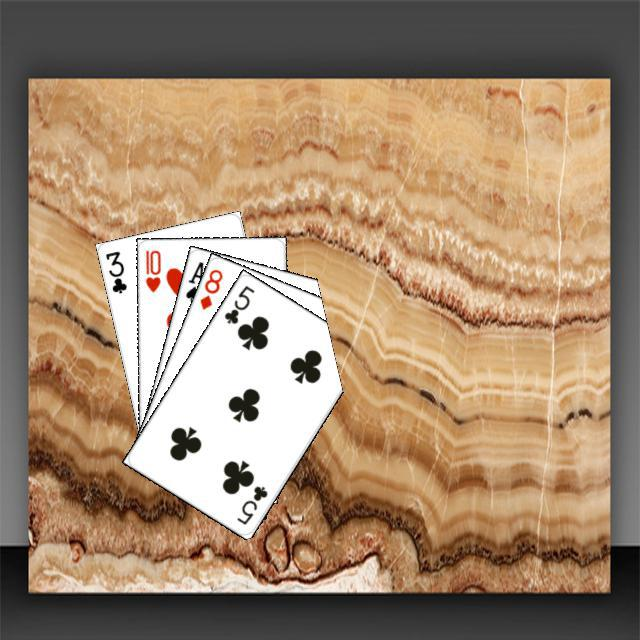10h: (141, 245, 162, 294)
3c: (100, 246, 129, 296)
5c: (219, 280, 256, 326), (232, 481, 269, 527)
8d: (195, 264, 224, 311)
As: (181, 256, 205, 303)
